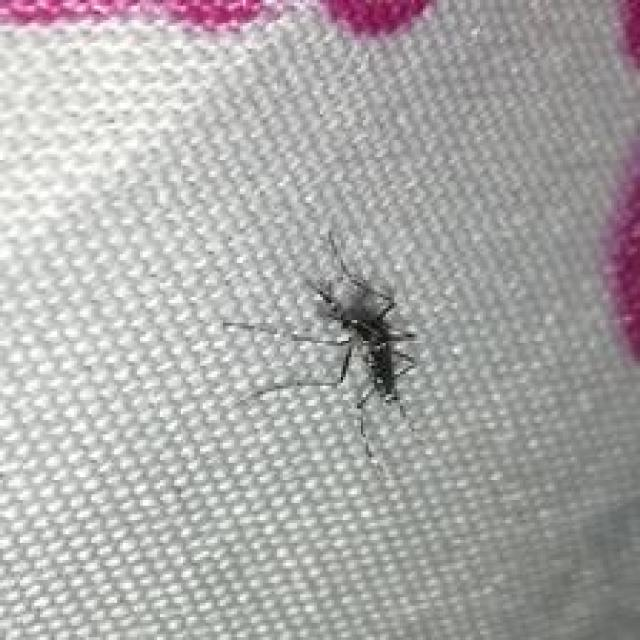Aedes albopictus: (222, 227, 422, 470)
